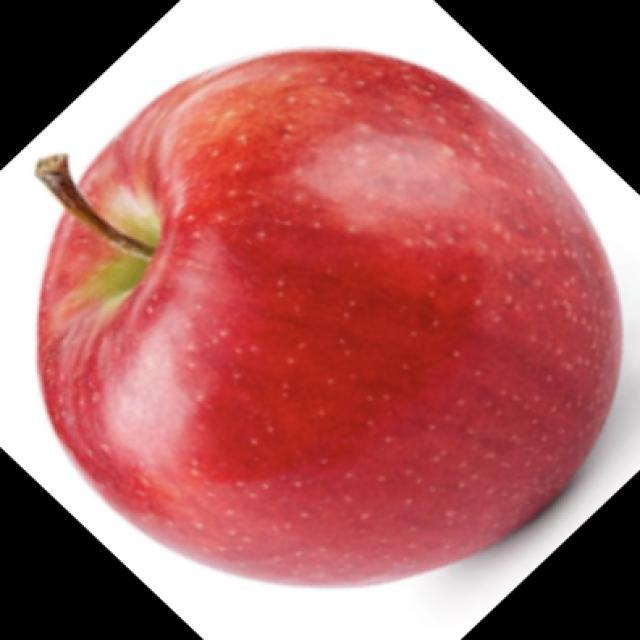Fresh Apple: (75, 40, 617, 577)
